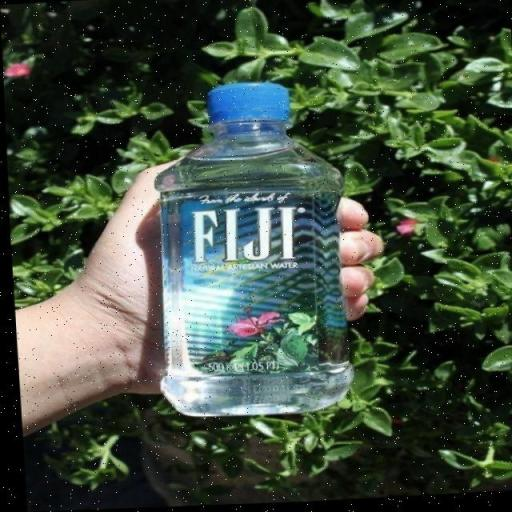plastic: (152, 84, 350, 423)
